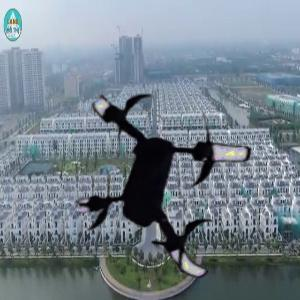drone: (64, 77, 275, 288)
